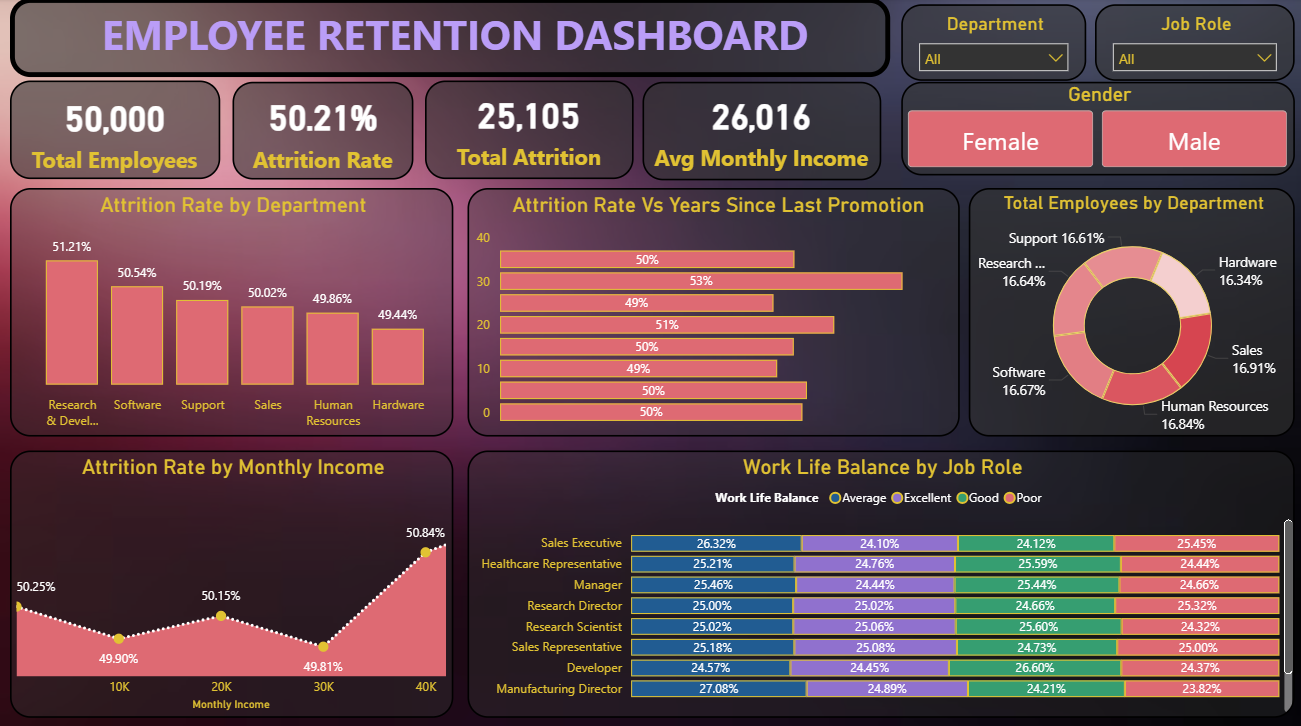

Layout of this report page (visuals, bound fields, positions):
{"tool":"powerbi","page":{"name":"Page 1","canvas":[1280,720],"ordinal":0},"visuals":[{"type":"areaChart","title":"Attrition Rate by Monthly Income ","fields":{"Y":["Final_merge.Attrition rate"],"Category":["Final_merge.MonthlyIncome (bins)"]},"box":[9.8,444.2,435.6,262.6],"z":0},{"type":"donutChart","title":"Total Employees by Department","fields":{"Category":["Final_merge.Department"],"Y":["CountNonNull(Final_merge.EmployeeCount)"]},"box":[950.8,186.1,320.3,243.8],"z":1000},{"type":"columnChart","title":"Attrition Rate by Department","fields":{"Category":["Final_merge.Department"],"Y":["Final_merge.Attrition rate"]},"box":[9.8,186.5,435.6,244.2],"z":2000},{"type":"barChart","title":"Attrition Rate Vs Years Since Last Promotion","fields":{"Category":["Final_merge.YearsSinceLastPromotion (bins)"],"Y":["Final_merge.Attrition rate"]},"box":[458.8,186.1,483.3,243.8],"z":3000},{"type":"slicer","title":"Department","fields":{"Values":["Final_merge.Department"]},"box":[884.7,6.1,181.6,74.8],"z":4000},{"type":"card","fields":{"Values":["Sum(Final_merge.EmployeeCount)"]},"box":[9.8,81,206.1,96.9],"z":5000},{"type":"card","fields":{"Values":["Sum(Final_merge.Attrition number)"]},"box":[417.2,81,204.9,96.9],"z":6000},{"type":"card","fields":{"Values":["Final_merge.Attrition rate"]},"box":[228.2,82.2,177.9,95.7],"z":7000},{"type":"shape","box":[9.8,0,863.8,77.3],"z":8000},{"type":"slicer","title":"Job Role","fields":{"Values":["Final_merge.JobRole"]},"box":[1074.9,6.1,196.3,74.8],"z":9000},{"type":"card","fields":{"Values":["Avg(Final_merge.MonthlyIncome)"]},"box":[630.7,82.2,234.4,96.9],"z":10000},{"type":"hundredPercentStackedBarChart","title":"Work Life Balance by Job Role","fields":{"Series":["Final_merge.WorkLifeBalance Category"],"Category":["Final_merge.JobRole"],"Y":["CountNonNull(Final_merge.EmployeeCount)"]},"box":[458.9,444.2,812.3,262.6],"z":11000},{"type":"advancedSlicerVisual","fields":{"Values":["Final_merge.Gender"]},"box":[884.7,82.2,386.5,92],"z":12000}]}

Visuals, with their boxes in screenshot pixels (x1, y1, x2, y2), scaled from the page's 1280x720 canvas onto the 1301x726 screenshot:
"Attrition Rate by Monthly Income " areaChart: [10,448,453,713]
"Total Employees by Department" donutChart: [966,188,1292,433]
"Attrition Rate by Department" columnChart: [10,188,453,434]
"Attrition Rate Vs Years Since Last Promotion" barChart: [466,188,958,433]
"Department" slicer: [899,6,1084,82]
card - Sum(Final_merge.EmployeeCount): [10,82,219,179]
card - Sum(Final_merge.Attrition number): [424,82,632,179]
card - Final_merge.Attrition rate: [232,83,413,179]
shape: [10,0,888,78]
"Job Role" slicer: [1093,6,1292,82]
card - Avg(Final_merge.MonthlyIncome): [641,83,879,181]
"Work Life Balance by Job Role" hundredPercentStackedBarChart: [466,448,1292,713]
advancedSlicerVisual - Final_merge.Gender: [899,83,1292,176]
